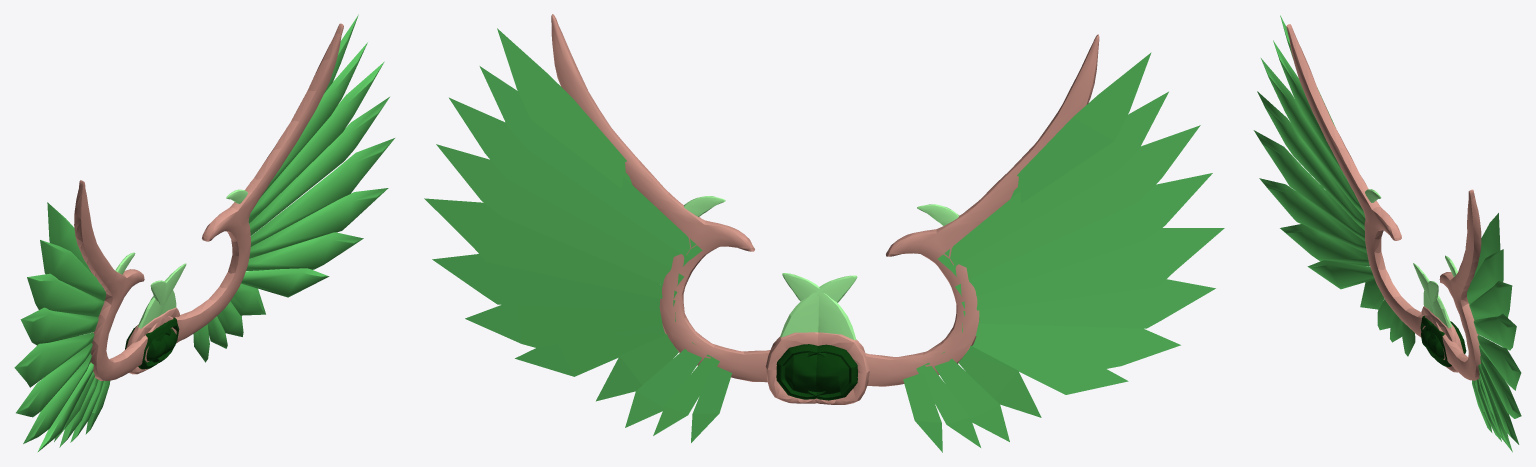
3 views of the same model, side by side, from view 1: azimuth 30°, elevation 25°; view 2: azimuth 150°, elevation 25°; view 3: azimuth 270°, elevation 25° (orthographic). The views are drawn at different scales.
Parts seen in each view (by area): view 1: Plane_023, lea_wings, Plane_024, Cylinder_001; view 2: Plane_023, lea_wings, Plane_024, Cylinder_001; view 3: Plane_023, lea_wings, Plane_024, Cylinder_001.
Boxes of the visible parts, bbox=[...] form: Plane_023: bbox=[14, 14, 394, 452]; lea_wings: bbox=[74, 23, 343, 380]; Plane_024: bbox=[115, 189, 247, 328]; Cylinder_001: bbox=[125, 317, 179, 369]; Plane_023: bbox=[424, 28, 1224, 452]; lea_wings: bbox=[551, 14, 1099, 404]; Plane_024: bbox=[684, 196, 959, 340]; Cylinder_001: bbox=[776, 344, 857, 400]; Plane_023: bbox=[1253, 15, 1521, 452]; lea_wings: bbox=[1286, 24, 1481, 380]; Plane_024: bbox=[1365, 189, 1457, 328]; Cylinder_001: bbox=[1420, 315, 1466, 366].
Bounding box in the file's own units: 231 × 108 × 134.
